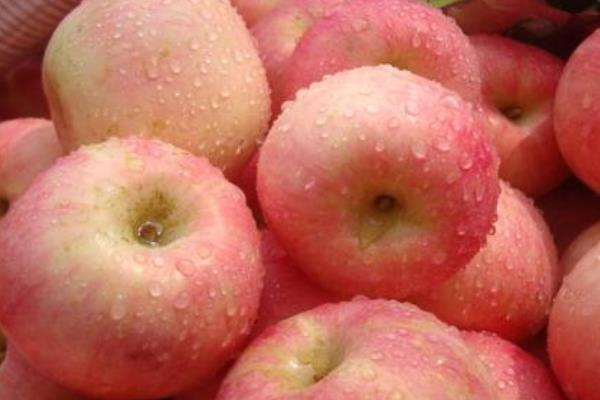apple: (1, 136, 266, 394), (256, 63, 502, 301), (39, 1, 273, 165), (232, 1, 491, 127), (212, 296, 500, 400)
